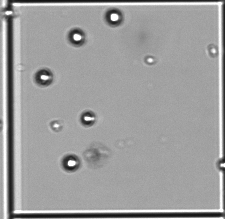Living Cell: (68, 28, 86, 47), (105, 8, 123, 26), (61, 154, 80, 171), (35, 69, 52, 86), (81, 111, 95, 126), (49, 119, 62, 131), (144, 54, 156, 66), (207, 44, 218, 57), (3, 8, 16, 17)
